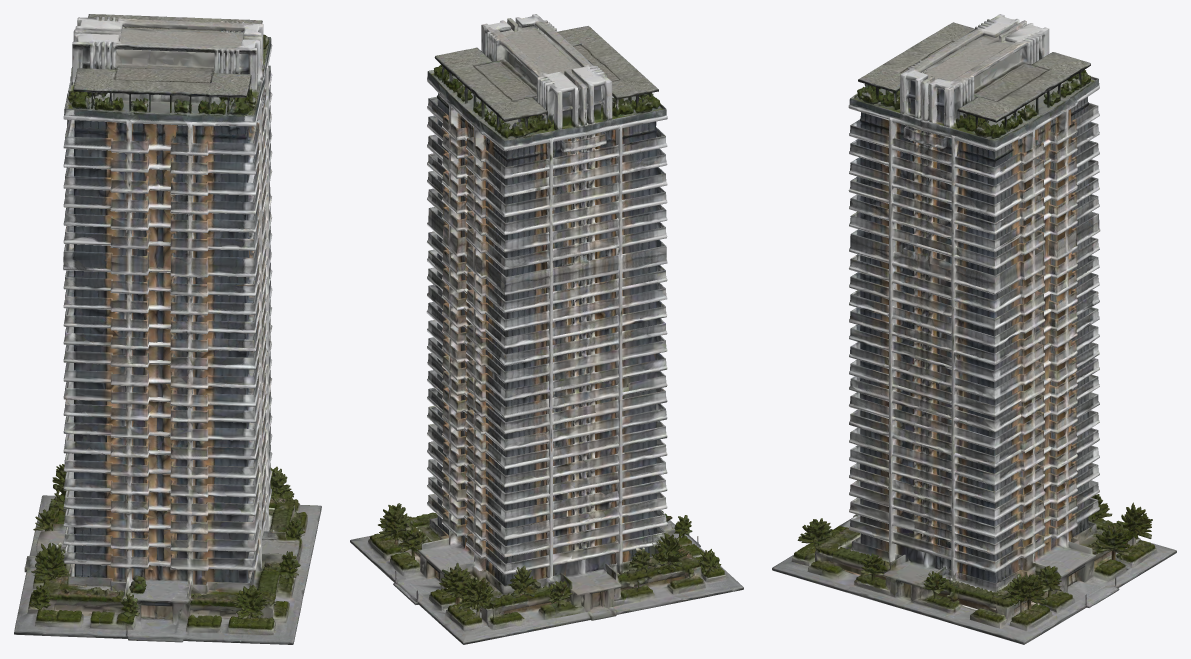
File: building-stage-3.glb
3 views of the same model, side by side, from view 1: azimuth 30°, elevation 25°; view 2: azimuth 150°, elevation 25°; view 3: azimuth 270°, elevation 25° (orthographic). The views are drawn at different scales.
Visible parts, largest first — view 1: mesh_node; view 2: mesh_node; view 3: mesh_node.
Boxes of the visible parts, left/top/right/bottom form: mesh_node: left=14, top=14, right=321, bottom=644; mesh_node: left=350, top=14, right=743, bottom=644; mesh_node: left=772, top=14, right=1176, bottom=644.
Bounding box in the file's own units: 1.33 × 1.9 × 1.37.
1 material, 1 textured.
